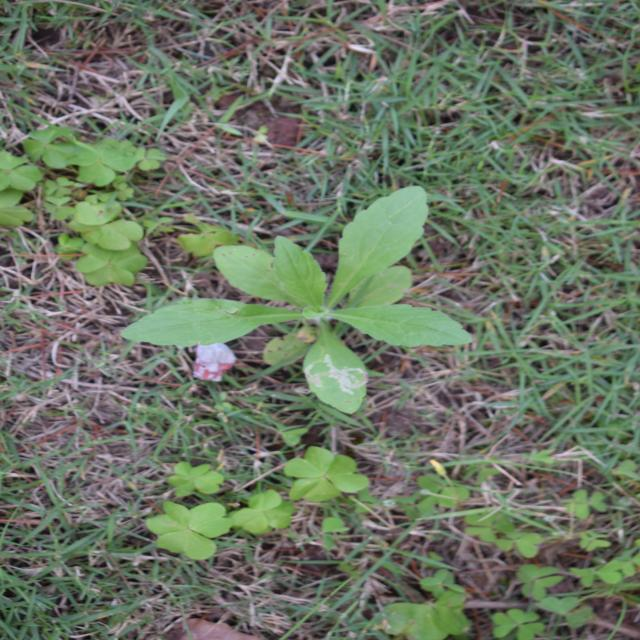horseweed: (189, 186, 415, 506)
